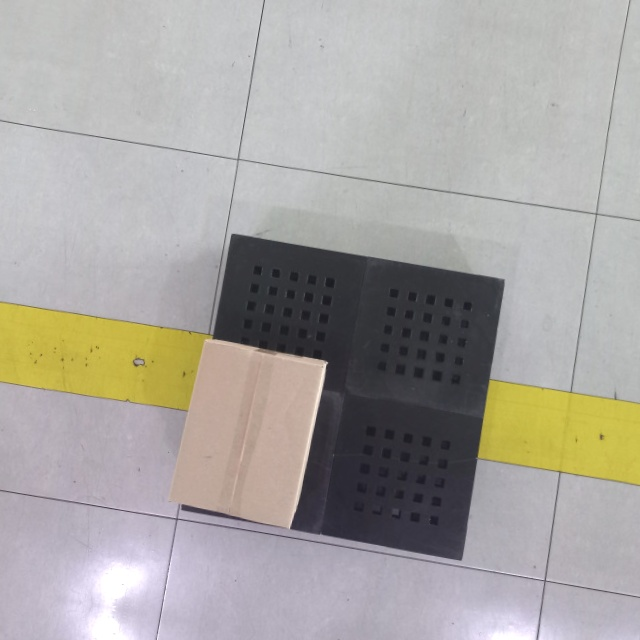box: (165, 332, 329, 532)
pallet: (167, 219, 522, 572)
